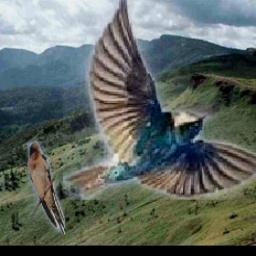Swallow: (64, 0, 256, 201), (28, 143, 65, 235)
